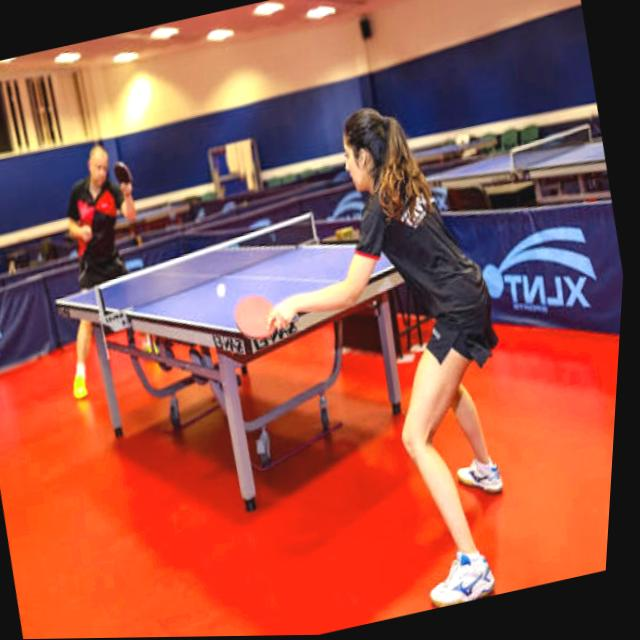TT Net: (92, 204, 320, 325)
TT Racket: (231, 293, 285, 342), (113, 156, 133, 186)
TT Table: (56, 243, 444, 333)
